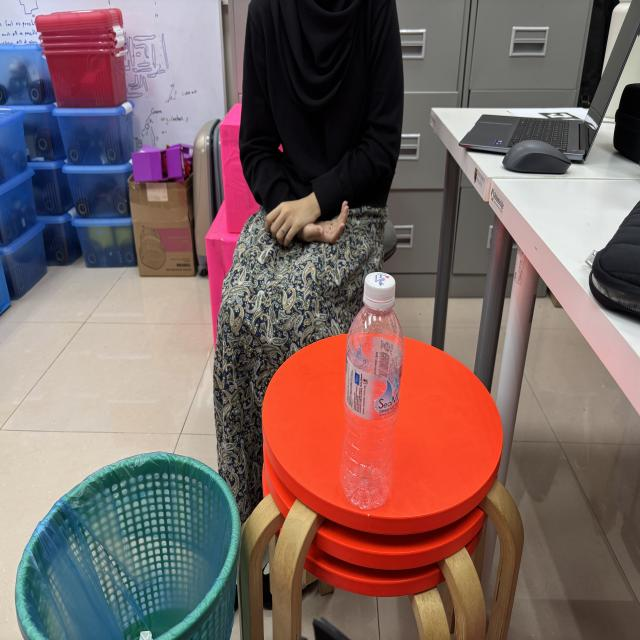dustbin: (11, 446, 243, 640)
plastic_bottle: (332, 261, 412, 520)
